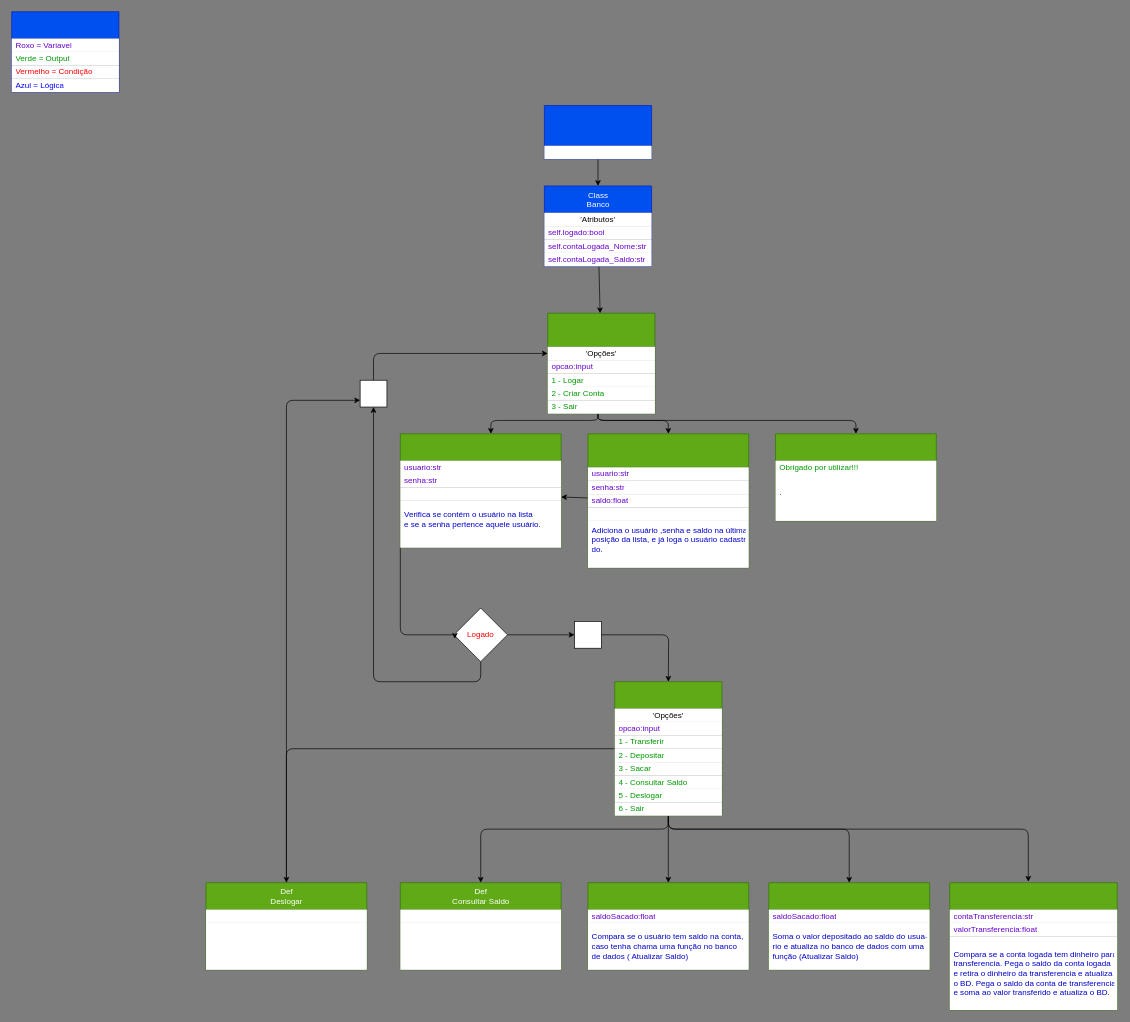
Some shapes in this 1130 by 1022 pixel diagram are drawn without their labels. Each missing label, with the box of its shape:
Cores:: (11, 11, 119, 92)
Def Criar Conta <<Finalizado>>: (587, 433, 749, 568)
Def Depositar: (768, 882, 930, 970)
Def Logar: (400, 433, 561, 548)
Def menuInicial <<Finalizado>>: (547, 313, 655, 414)
Def menuPrincipal: (614, 681, 722, 816)
Def Sacar: (587, 882, 749, 970)
Def Sair: (775, 433, 936, 521)
Def Transferir: (949, 882, 1117, 1010)
False: (359, 380, 387, 407)
Import Class db_IANES: (544, 105, 652, 159)
Pega as informações do display do usuário mostra na tela: (400, 923, 561, 969)
Pega todas as informações de login e zera Retornando ao menu inicial: (206, 923, 366, 969)
True: (574, 621, 601, 648)
